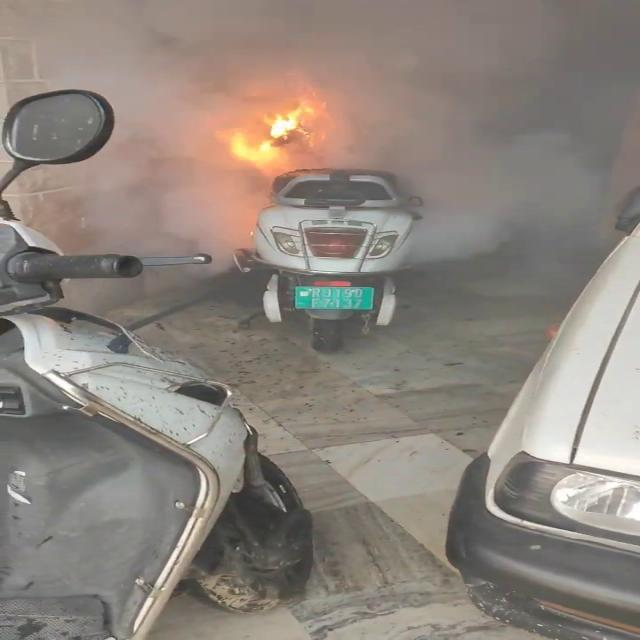Fire: (227, 96, 321, 172)
Smoke: (3, 0, 640, 149)
